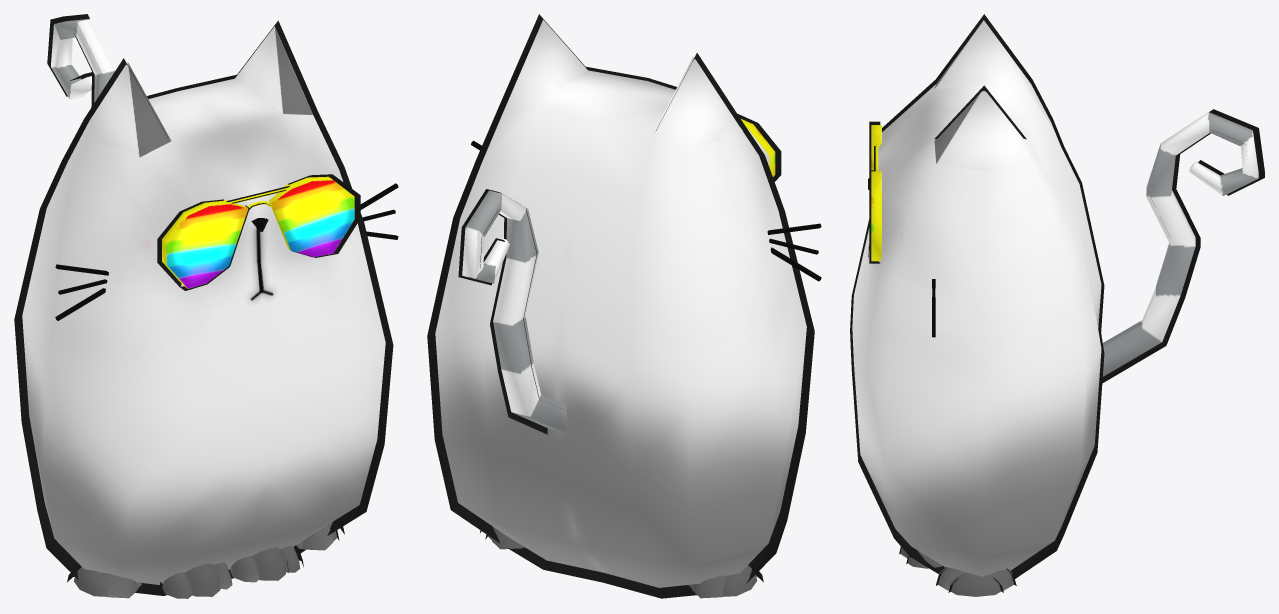
Rendered from glbcat.glb.
3 renders of one model, left to right at view 1: azimuth 30°, elevation 25°; view 2: azimuth 150°, elevation 25°; view 3: azimuth 270°, elevation 25°, orthographic. The views are drawn at different scales.
Parts seen in each view (by area): view 1: Object_3, Object_2; view 2: Object_3, Object_2; view 3: Object_3, Object_2.
Boxes of the visible parts, x1,y1,x2,y2 form: Object_3: [22, 19, 398, 598]; Object_2: [14, 14, 393, 595]; Object_3: [435, 19, 821, 598]; Object_2: [427, 14, 814, 598]; Object_3: [852, 20, 1258, 596]; Object_2: [850, 14, 1264, 592].
Size of the model in its own units: 4.46 by 6.58 by 4.96.
Materials: 2 (1 with a texture image).
